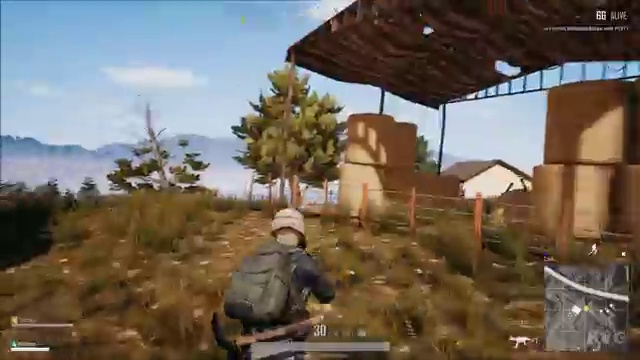Player: (207, 200, 349, 326)
